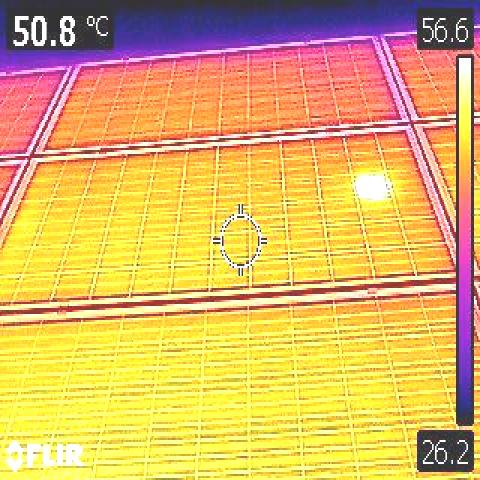fault: (356, 176, 390, 199)
